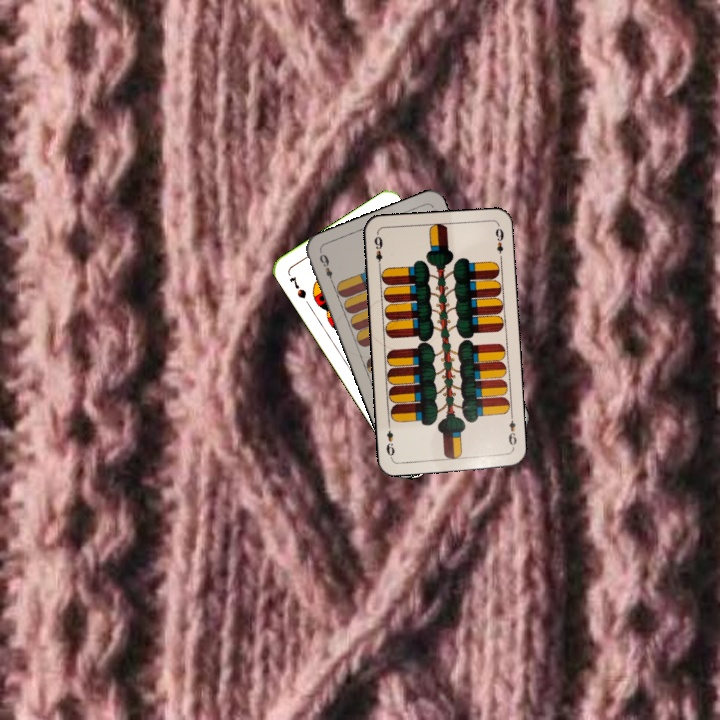E9: (315, 250, 337, 287), (370, 232, 385, 271), (505, 411, 519, 452)
S7: (285, 272, 309, 301)
